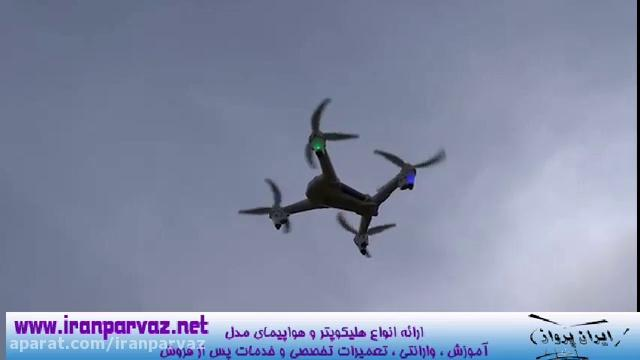drone: (235, 93, 450, 259)
